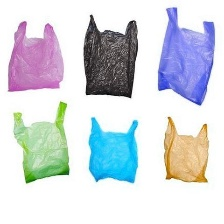plastic_bag: (156, 1, 221, 105), (79, 12, 143, 101), (8, 100, 71, 188), (5, 16, 67, 94), (85, 111, 142, 187), (157, 112, 211, 186)
